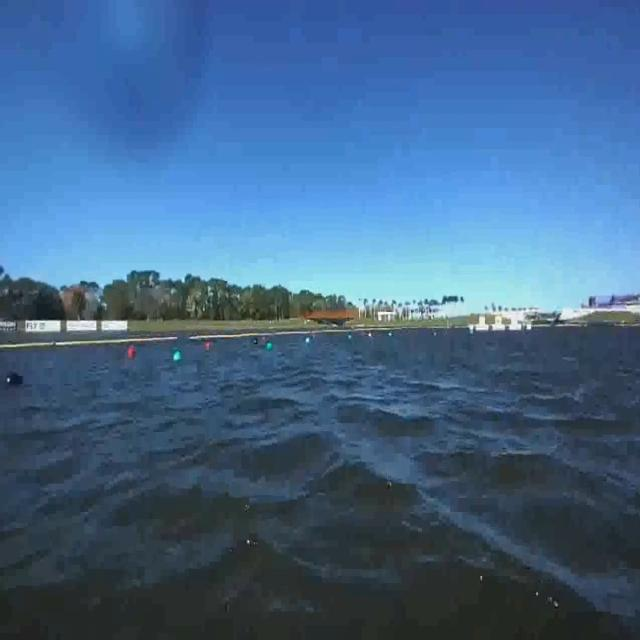black-buoy: (2, 362, 26, 396)
green-buoy: (172, 348, 183, 368)
red-buoy: (128, 342, 138, 362)
